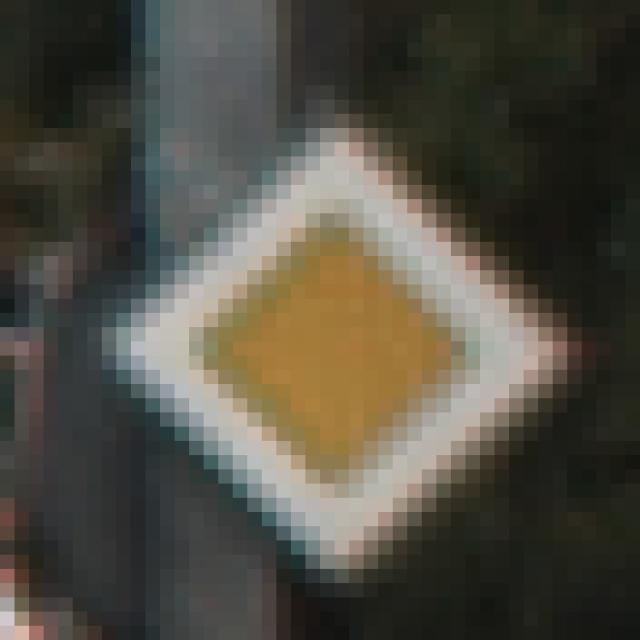Main Road: (89, 86, 569, 570)
